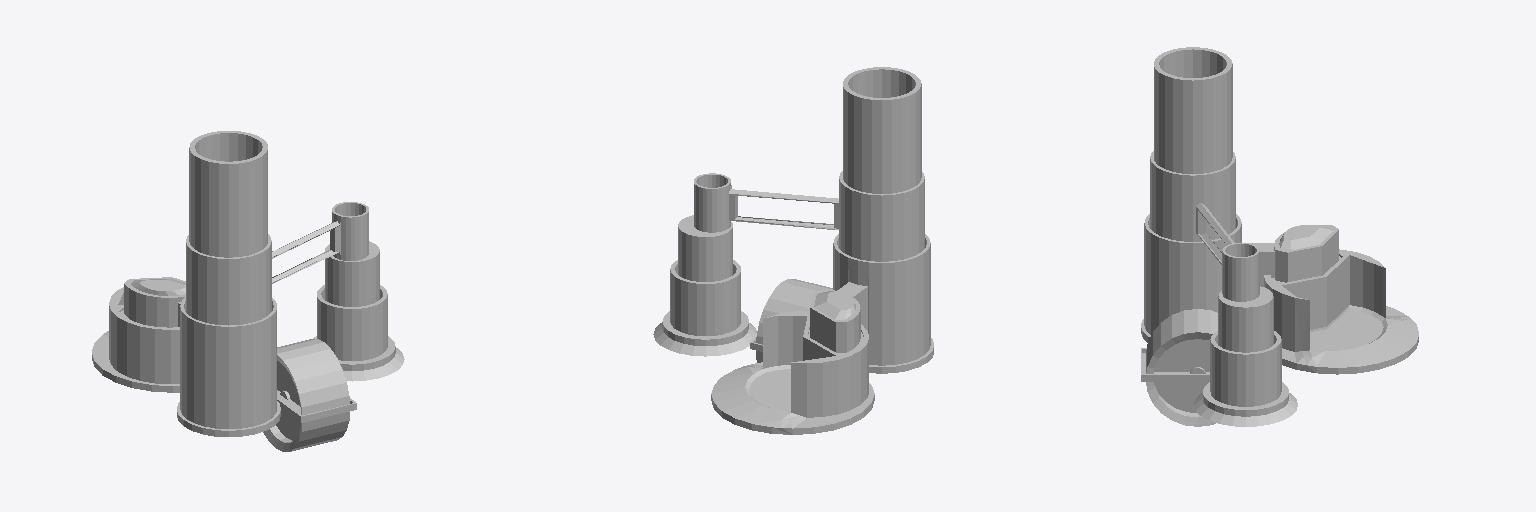
The model's file is refinery.obj.
3 renders of one model, left to right at view 1: azimuth 30°, elevation 25°; view 2: azimuth 150°, elevation 25°; view 3: azimuth 270°, elevation 25°, orthographic.
Parts seen in each view (by area): view 1: refinery.obj; view 2: refinery.obj; view 3: refinery.obj.
Part boxes in pixels (bbox=[...]): refinery.obj: bbox=[92, 131, 404, 451]; refinery.obj: bbox=[653, 67, 933, 434]; refinery.obj: bbox=[1141, 47, 1418, 426].
Bounding box in the file's own units: 1.2 × 1.45 × 1.16.